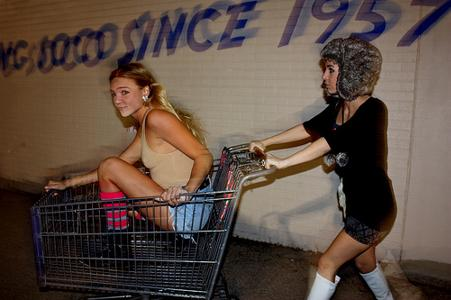person: (248, 34, 397, 299)
